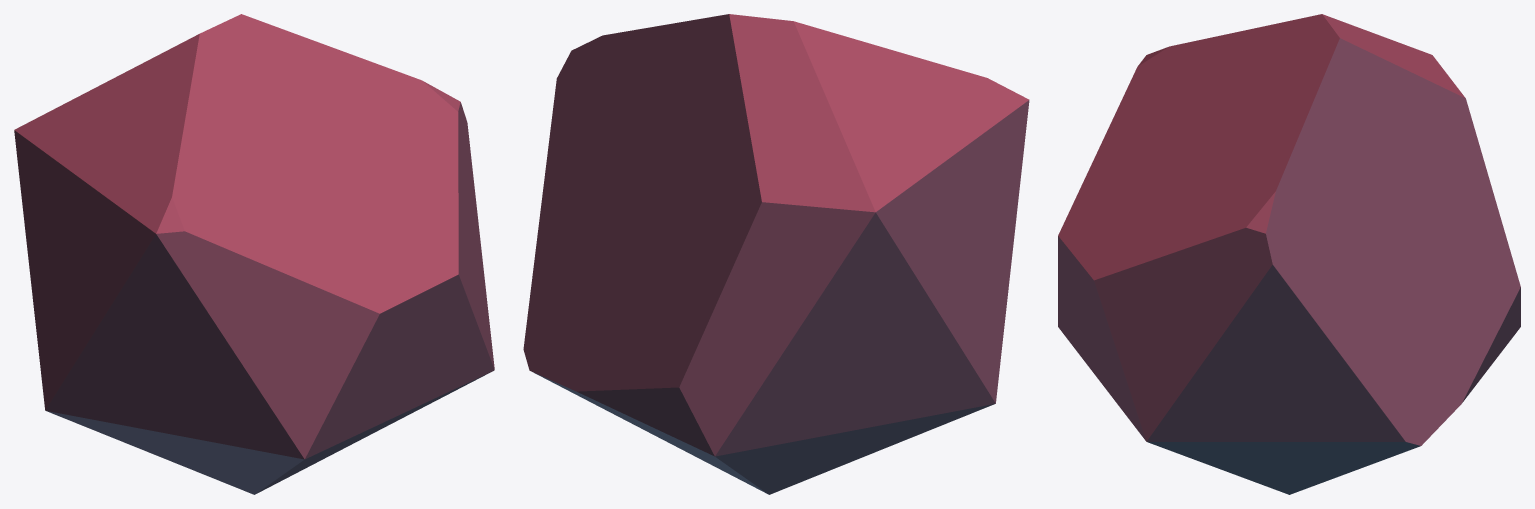
Rendered from geology-crystals-gemstone_v10.glb.
3 renders of one model, left to right at view 1: azimuth 30°, elevation 25°; view 2: azimuth 150°, elevation 25°; view 3: azimuth 270°, elevation 25°, orthographic. The views are drawn at different scales.
Visible parts, largest first — view 1: gemstone_v10; view 2: gemstone_v10; view 3: gemstone_v10.
Boxes of the visible parts, x1,y1,x2,y2 form: gemstone_v10: (14,14,494,494); gemstone_v10: (523,14,1029,494); gemstone_v10: (1058,14,1520,494).
Bounding box in the file's own units: 18.72 × 19.87 × 18.01.
